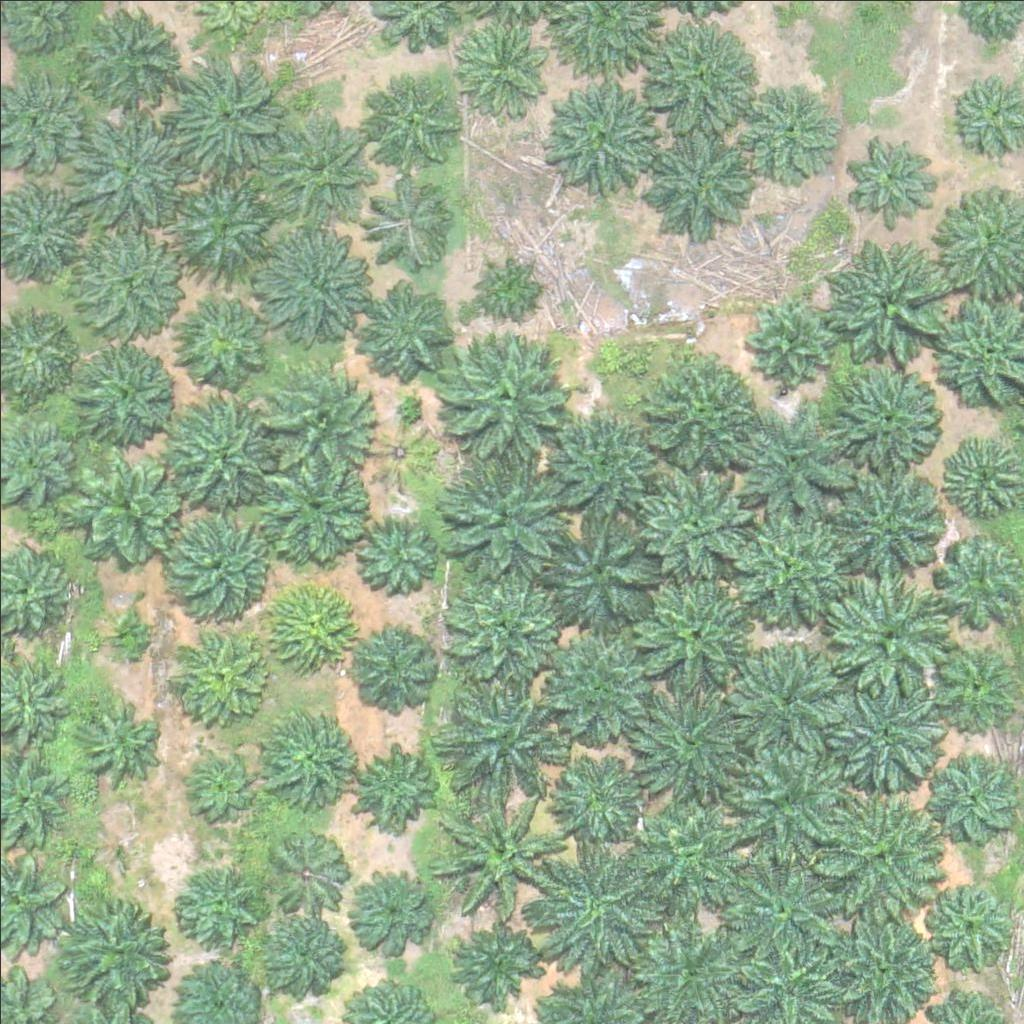Kelapa_Sawit: (623, 784, 748, 910), (623, 672, 748, 798), (629, 562, 754, 688), (635, 349, 760, 475), (725, 398, 850, 524), (729, 502, 854, 628), (722, 735, 847, 861), (717, 843, 842, 969), (820, 674, 945, 800), (824, 569, 949, 695), (826, 236, 951, 362), (538, 841, 663, 967), (538, 615, 663, 741), (541, 508, 666, 634), (540, 399, 665, 525), (446, 444, 571, 570), (438, 332, 563, 458), (438, 672, 563, 798), (441, 788, 566, 914), (259, 356, 384, 482), (153, 500, 278, 626), (156, 384, 281, 510), (61, 444, 186, 570), (258, 220, 383, 346), (639, 465, 764, 590), (725, 633, 850, 758), (808, 793, 933, 918), (443, 570, 568, 695), (64, 102, 189, 227), (833, 458, 946, 571), (828, 355, 941, 468), (639, 115, 752, 228), (646, 18, 759, 131), (440, 8, 552, 122), (259, 454, 371, 568), (737, 79, 837, 180), (550, 84, 650, 185), (169, 287, 269, 388), (76, 342, 176, 443), (57, 901, 157, 1002), (264, 118, 364, 219), (170, 62, 270, 163), (83, 5, 183, 106), (77, 226, 177, 327), (358, 284, 458, 384), (253, 702, 353, 802), (366, 168, 466, 268), (361, 68, 461, 168), (170, 164, 270, 264), (926, 760, 1014, 848), (550, 754, 638, 842), (342, 860, 430, 948), (354, 748, 442, 836), (350, 631, 438, 719), (264, 583, 352, 671), (178, 625, 266, 713), (451, 921, 538, 1010), (258, 913, 345, 1001), (747, 300, 834, 388), (935, 437, 1022, 525), (927, 642, 1014, 730), (920, 883, 1007, 971), (849, 137, 936, 225), (352, 512, 439, 600), (263, 832, 350, 920), (172, 851, 259, 939), (78, 701, 165, 789), (474, 247, 549, 323), (179, 748, 254, 823), (370, 424, 432, 487), (102, 614, 152, 664)
